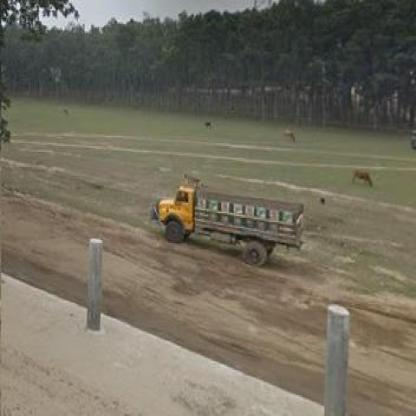truck: (155, 174, 307, 262)
